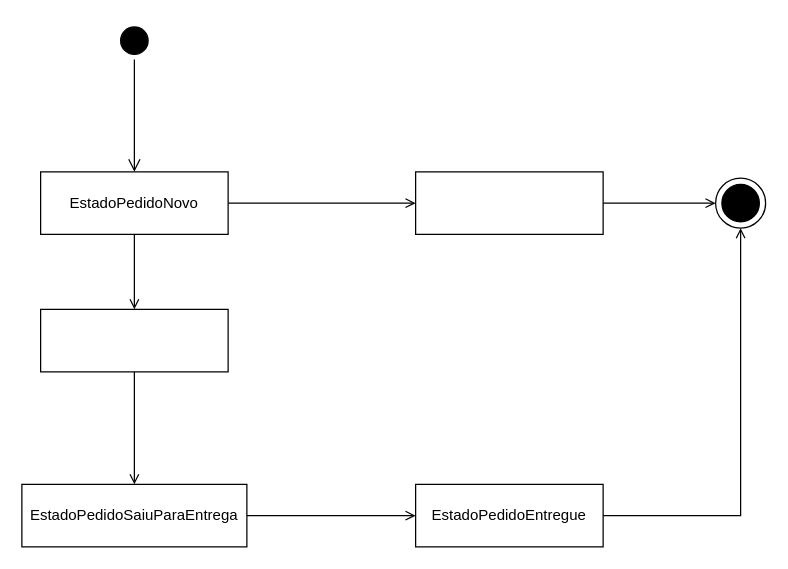
This 788x569 diagram has some shape labels left out. Each missing label, with the box of its shape:
EstadoPedidoCancelado: (414, 171, 603, 234)
EstadoPedidoPreparando: (39, 308, 228, 372)
